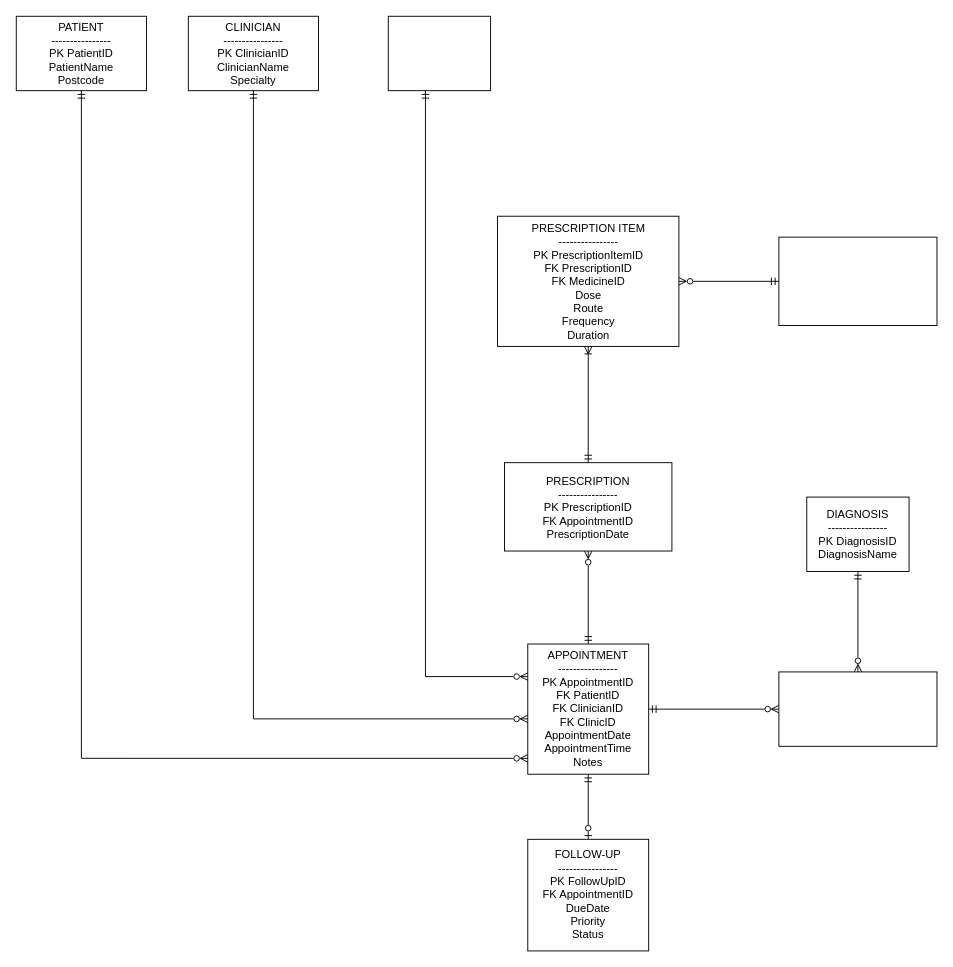
Image size: 953x967. Some labels were removed from this diagram. The shapes that lost their labels are listed below. From the top down, each one's centre as x and y in pixels, then its label:
At (439,53): "CLINIC ---------------- PK ClinicID ClinicName ClinicAddress".
At (857,281): "MEDICINE ---------------- PK MedicineID MedicineName".
At (857,708): "APPOINTMENT DIAGNOSIS ---------------- PK, FK AppointmentID PK, FK DiagnosisID".
